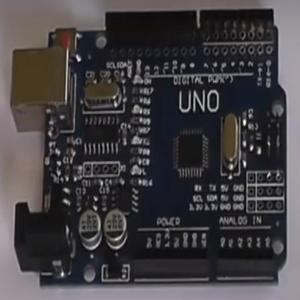duino: (9, 13, 287, 282)
